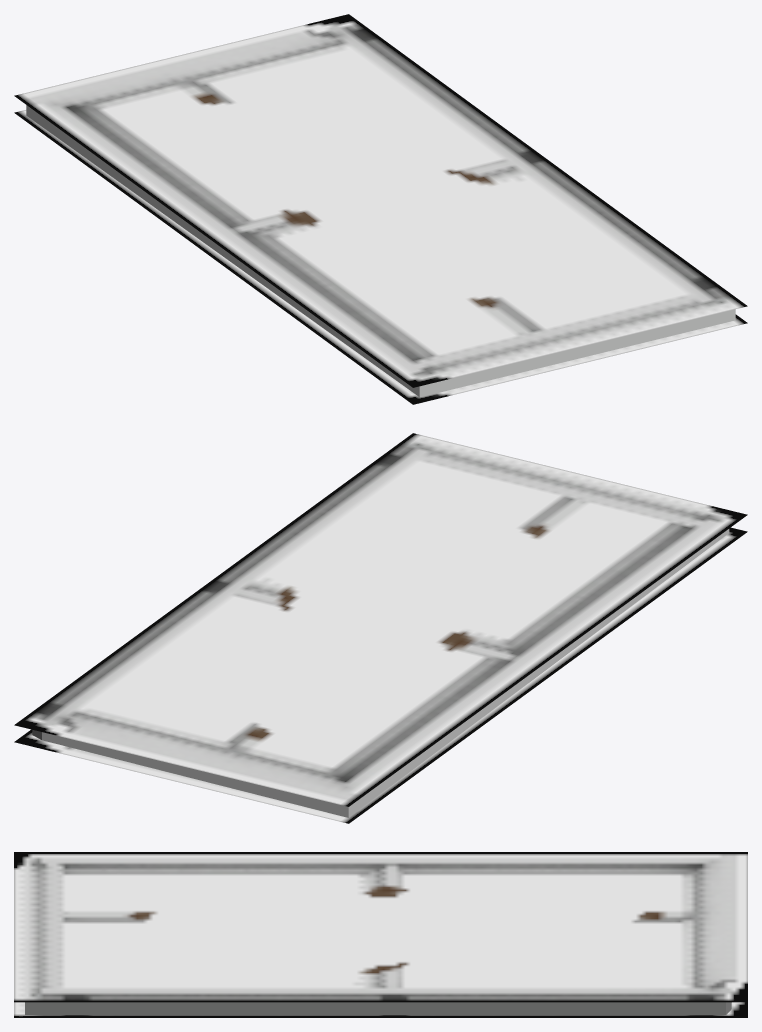
File: pz_native_fixtures_windows_white_99_frame.obj
3 views of the same model, one above another, from view 1: azimuth 30°, elevation 25°; view 2: azimuth 150°, elevation 25°; view 3: azimuth 270°, elevation 25° (orthographic). The views are drawn at different scales.
Visible parts, largest first — view 1: pz_native_fixtures_windows_white_99_frame; view 2: pz_native_fixtures_windows_white_99_frame; view 3: pz_native_fixtures_windows_white_99_frame.
Boxes of the visible parts, x1,y1,x2,y2 form: pz_native_fixtures_windows_white_99_frame: (14, 14, 747, 404); pz_native_fixtures_windows_white_99_frame: (14, 433, 747, 823); pz_native_fixtures_windows_white_99_frame: (14, 852, 747, 1017).
Size of the model in its own units: 0.8281 by 0.04 by 1.71.
1 material, 1 textured.
